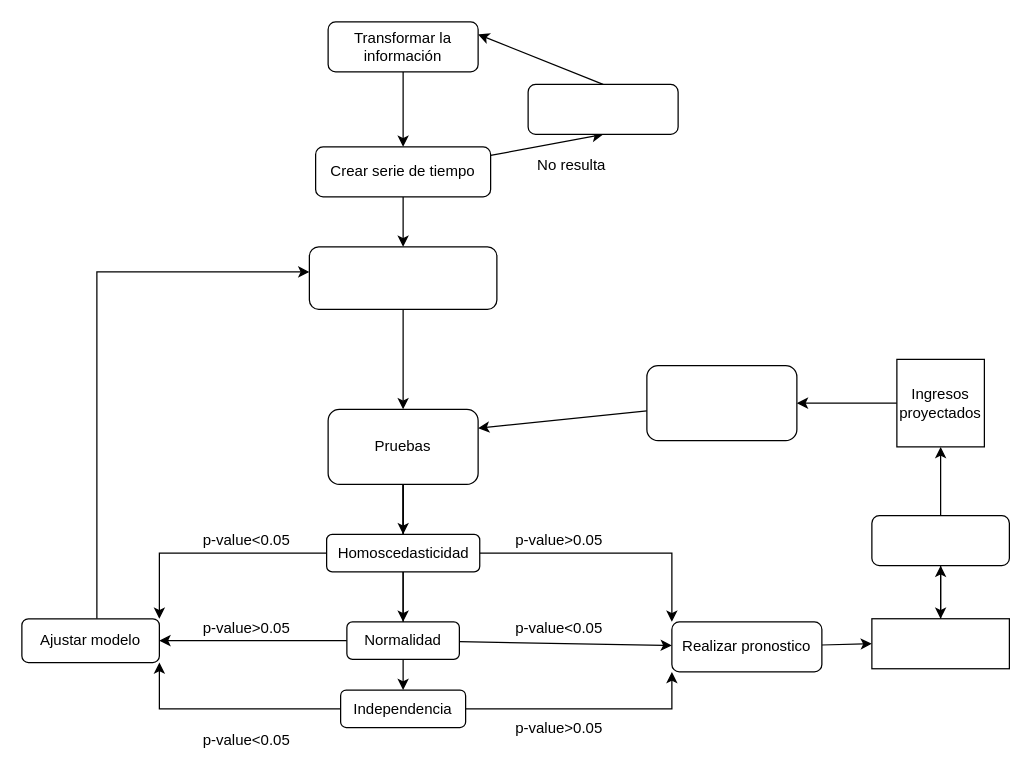
Image size: 1031x781. Some labels were removed from this diagram. Each missing label, with the box of its shape:
Aplicar modelo SARIMA: (308, 246, 497, 309)
Revisar tipo de dato: (527, 83, 678, 134)
Supervisión mensual: (646, 364, 797, 441)
Transformar seria a data frame: (871, 618, 1009, 669)
Unir pronósticos: (871, 514, 1009, 566)
